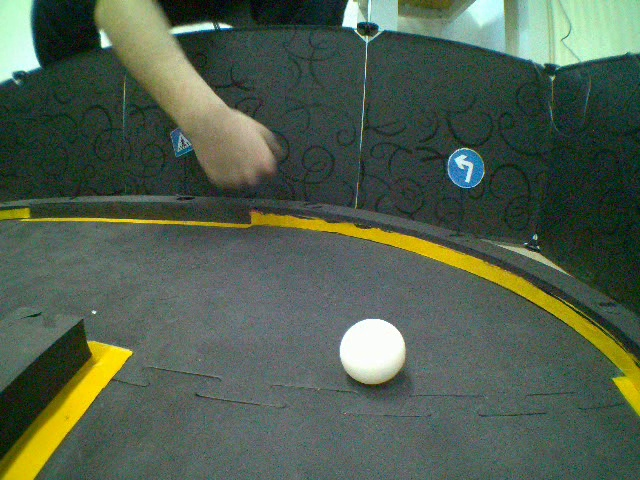ball: (338, 317, 407, 390)
